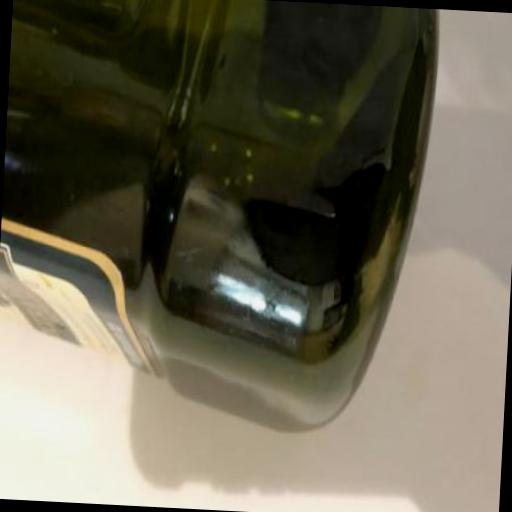plastic: (0, 0, 439, 441)
